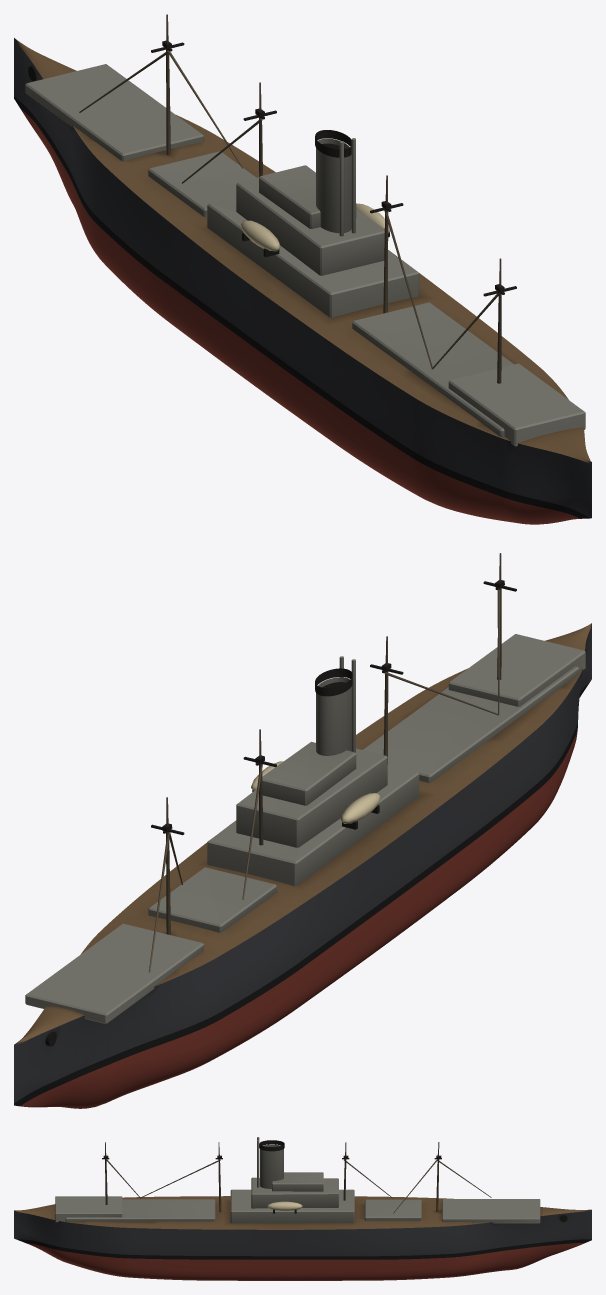
Rendered from ss-trevisa.glb.
3 renders of one model, top to bottom at view 1: azimuth 30°, elevation 25°; view 2: azimuth 150°, elevation 25°; view 3: azimuth 270°, elevation 25°, orthographic. The views are drawn at different scales.
Parts seen in each view (by area): view 1: ss-trevisa; view 2: ss-trevisa; view 3: ss-trevisa.
Boxes of the visible parts, x1,y1,x2,y2 form: ss-trevisa: (14,14,591,524); ss-trevisa: (14,553,591,1108); ss-trevisa: (14,1137,591,1280).
Size of the model in its own units: 15.6 by 27.75 by 112.
